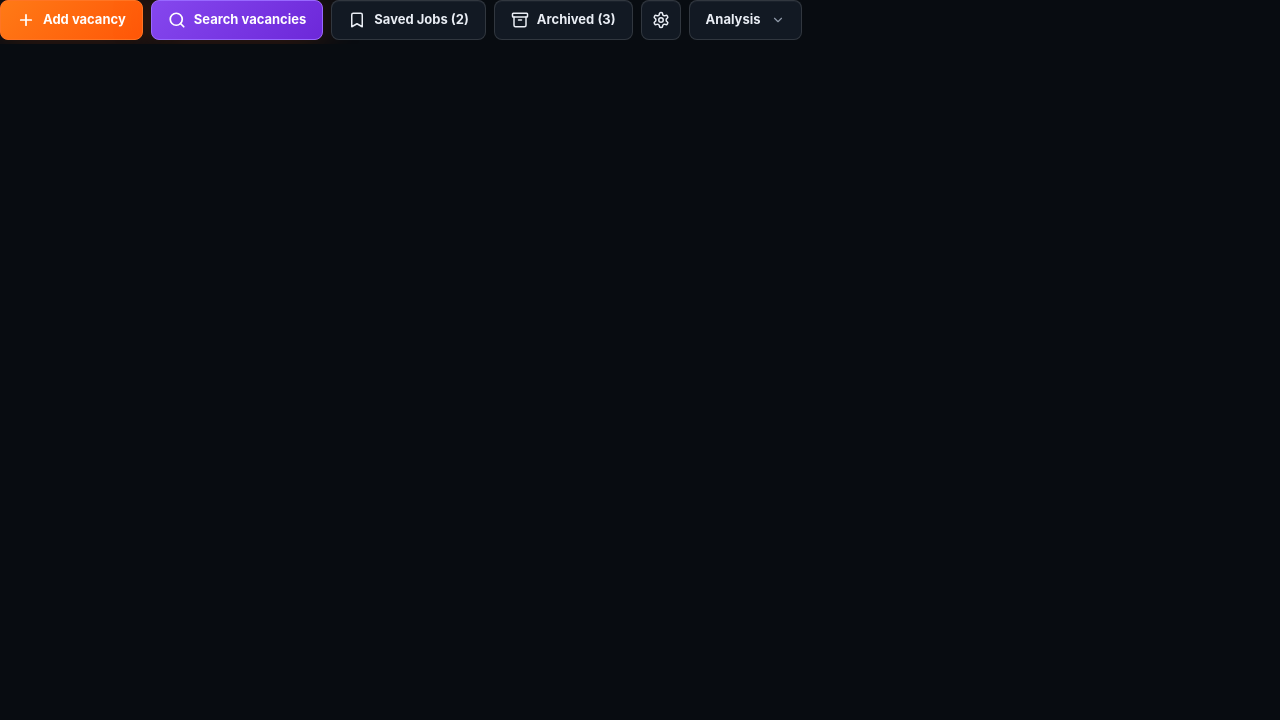
Scenario: renders the requested action order and opens auto-searches locally
Click the button named "Jobs settings" at [661, 20], box [641, 0, 681, 40]
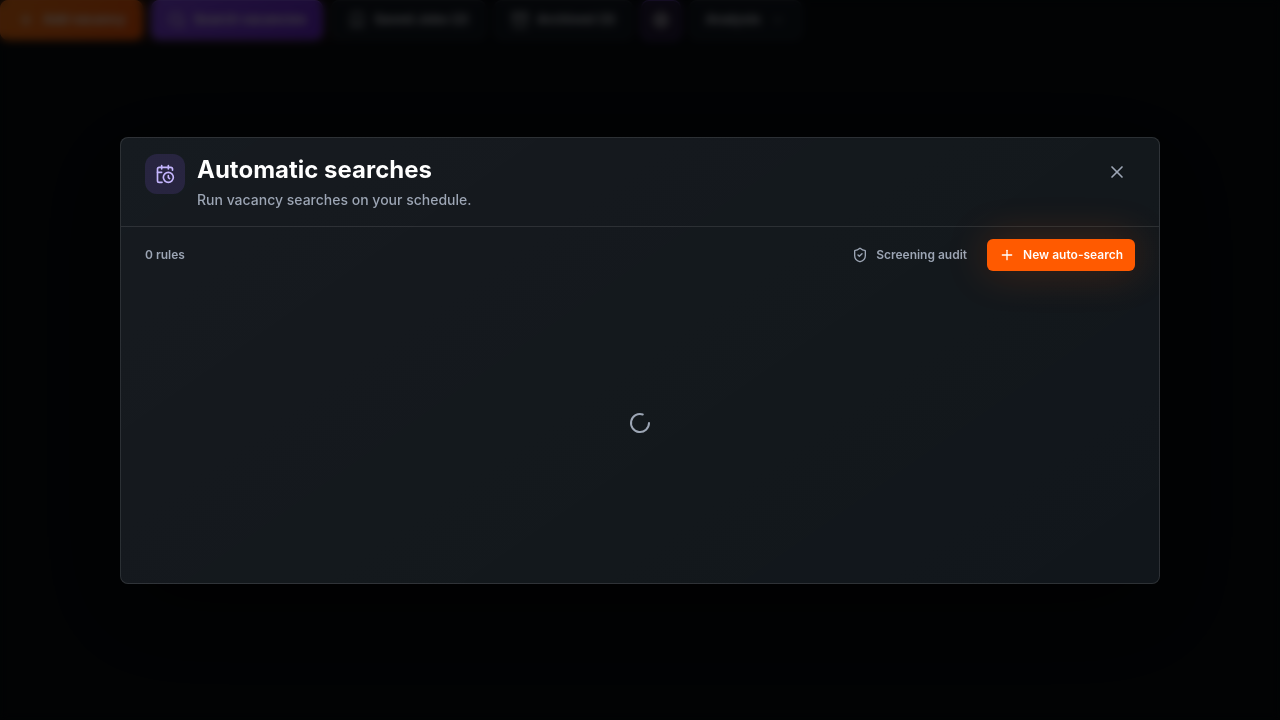
expect the dialog "Automatic searches" is shown: met, box [120, 136, 1160, 584]
Press Escape
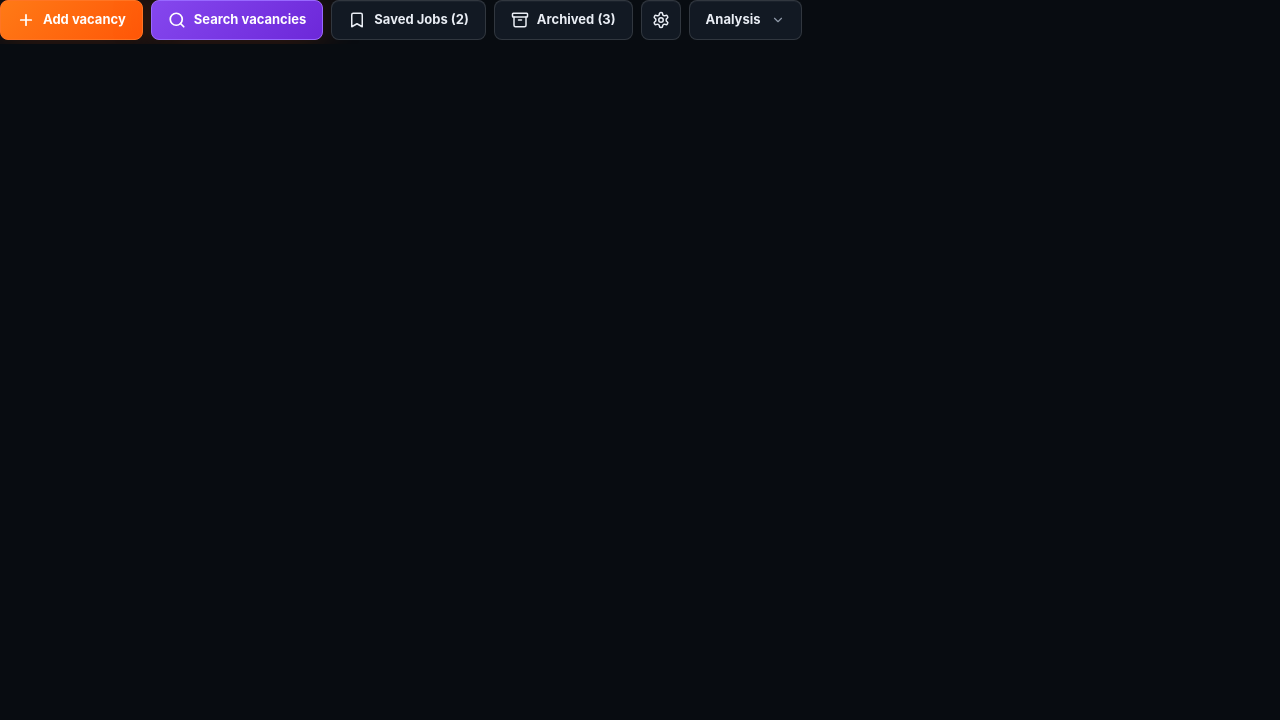
expect the heading "Automatic searches" is gone: met
